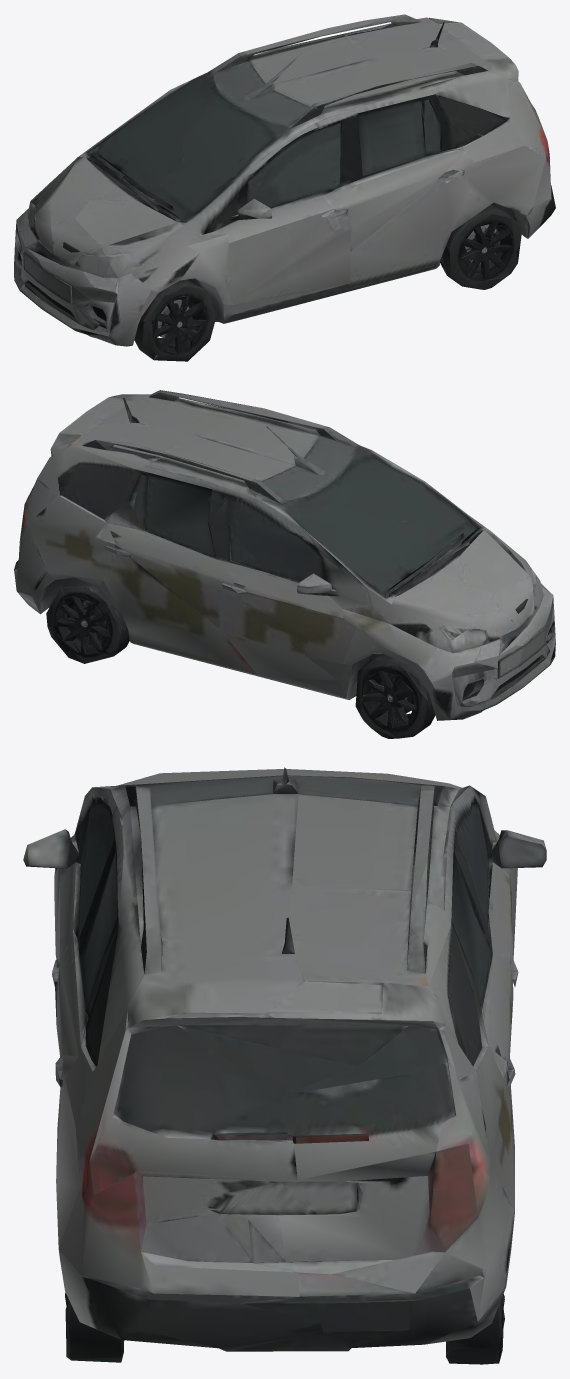
Rendered from car.glb.
3 views of the same model, one above another, from view 1: azimuth 30°, elevation 25°; view 2: azimuth 150°, elevation 25°; view 3: azimuth 270°, elevation 25° (orthographic). The views are drawn at different scales.
Parts seen in each view (by area): view 1: mesh_node; view 2: mesh_node; view 3: mesh_node.
Part boxes in pixels (<box>): mesh_node: <box>14,14,555,361</box>; mesh_node: <box>14,390,555,738</box>; mesh_node: <box>23,767,546,1364</box>.
Bounding box in the file's own units: 1.9 × 0.8786 × 0.9043.
Materials: 1 (1 with a texture image).
